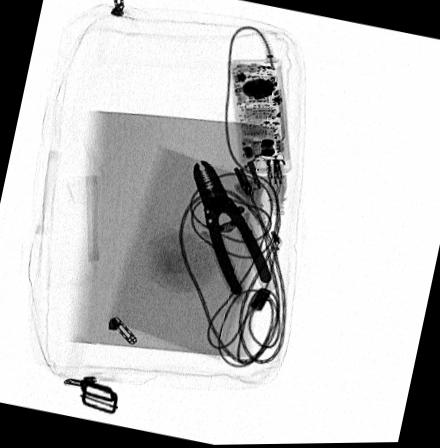Pliers: (190, 158, 273, 297)
